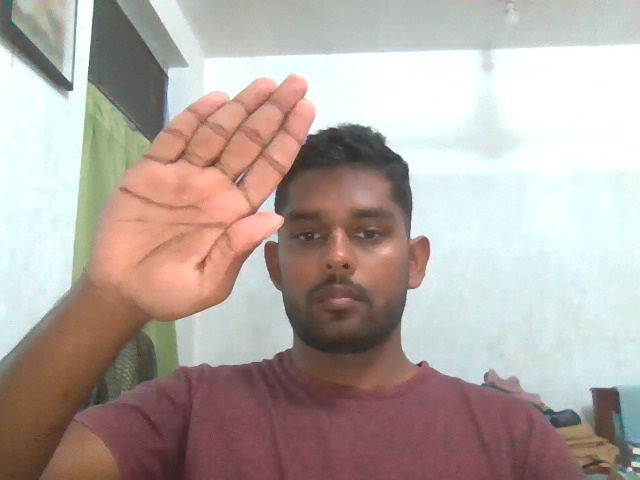bye: (68, 69, 315, 329)
